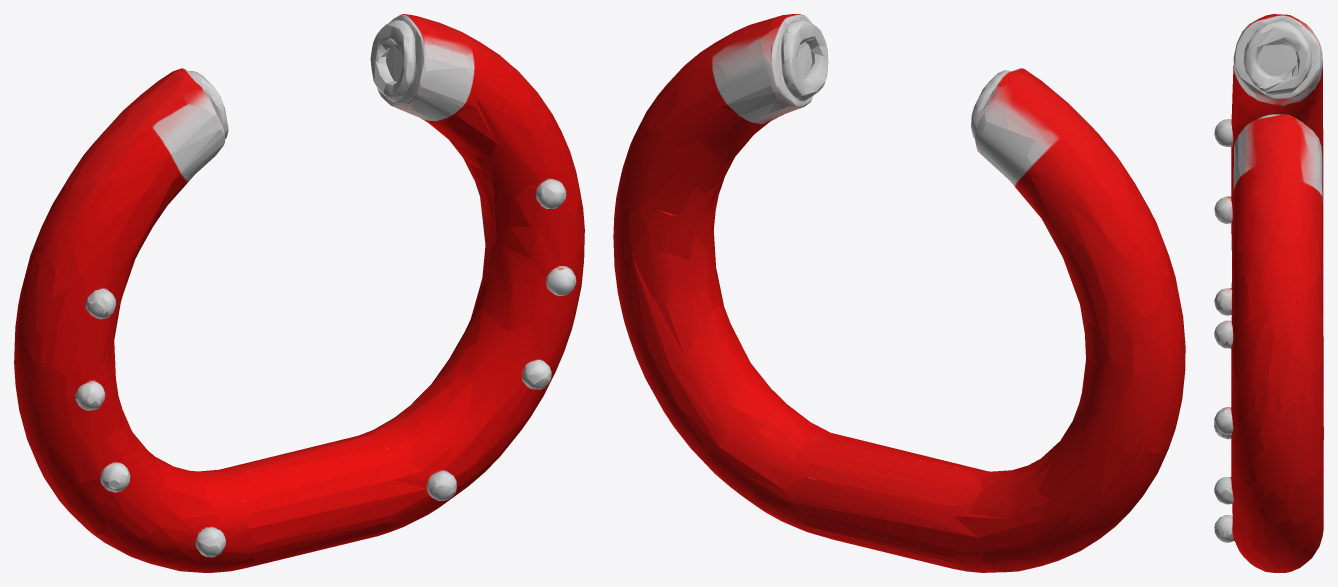
The model's file is magnet_orb.glb.
3 views of the same model, side by side, from view 1: azimuth 30°, elevation 25°; view 2: azimuth 150°, elevation 25°; view 3: azimuth 270°, elevation 25° (orthographic). The views are drawn at different scales.
Bounding box in the file's own units: 1.9 × 1.65 × 0.3534.
1 material, 1 textured.
